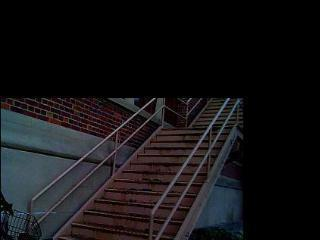Escaleras: (44, 127, 233, 240), (184, 98, 242, 127)
